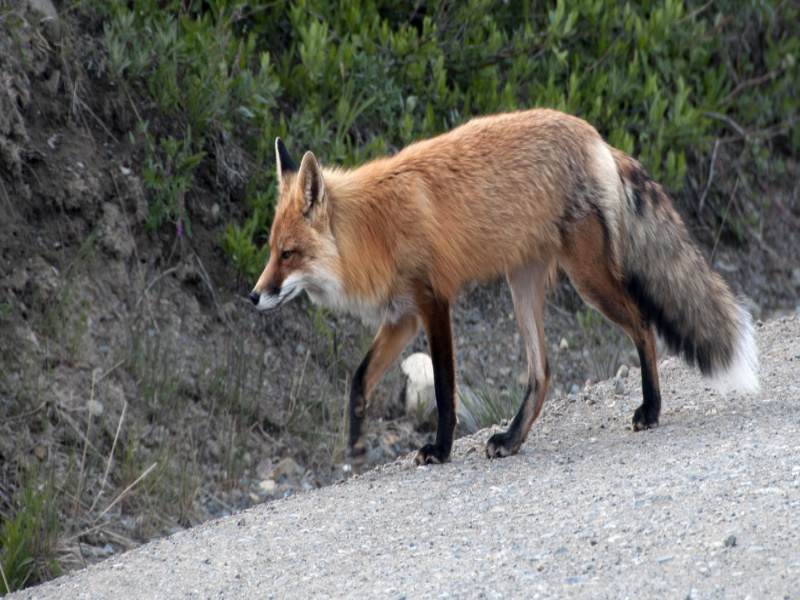fox: (248, 127, 761, 469)
